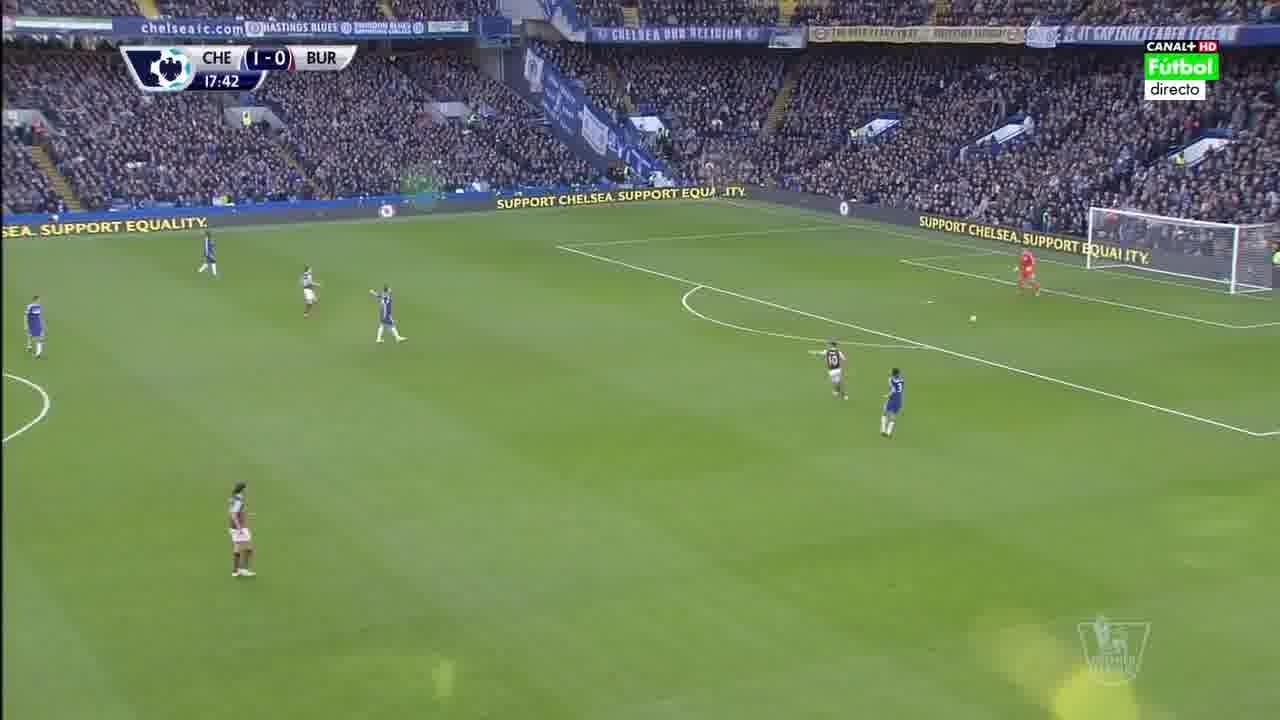football: (969, 313, 976, 324)
